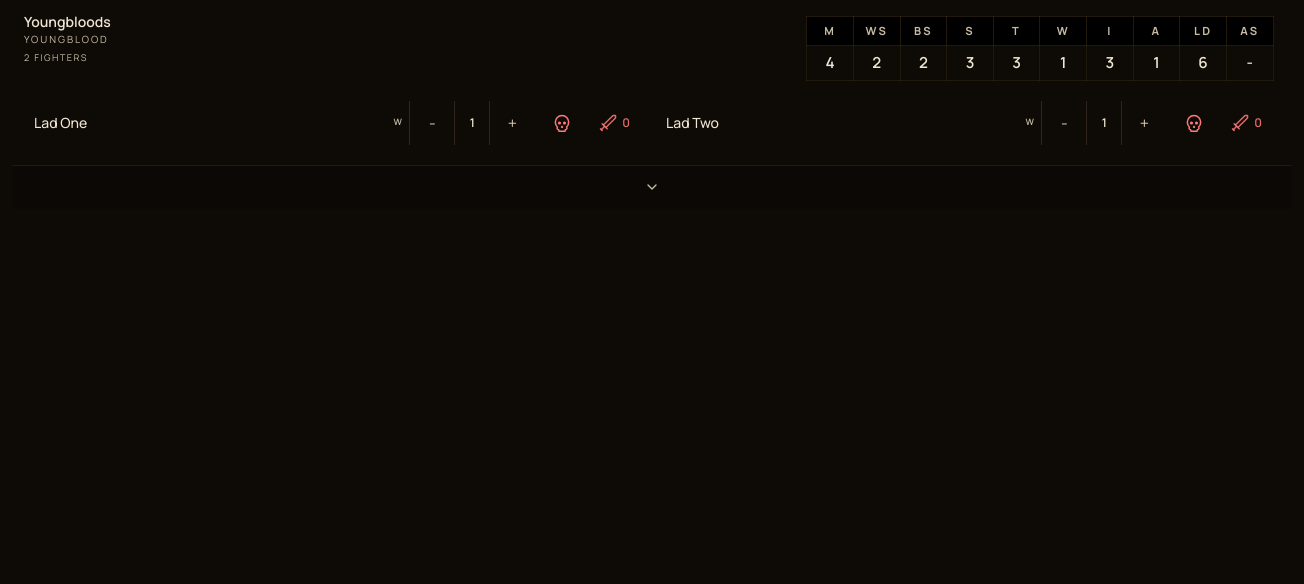
ActiveHenchmenGroupCard › shows loadout details without a member selector when expanded
Click the button named "Details for Youngbloods" at (652, 187), box left=12, top=165, right=1292, bottom=209
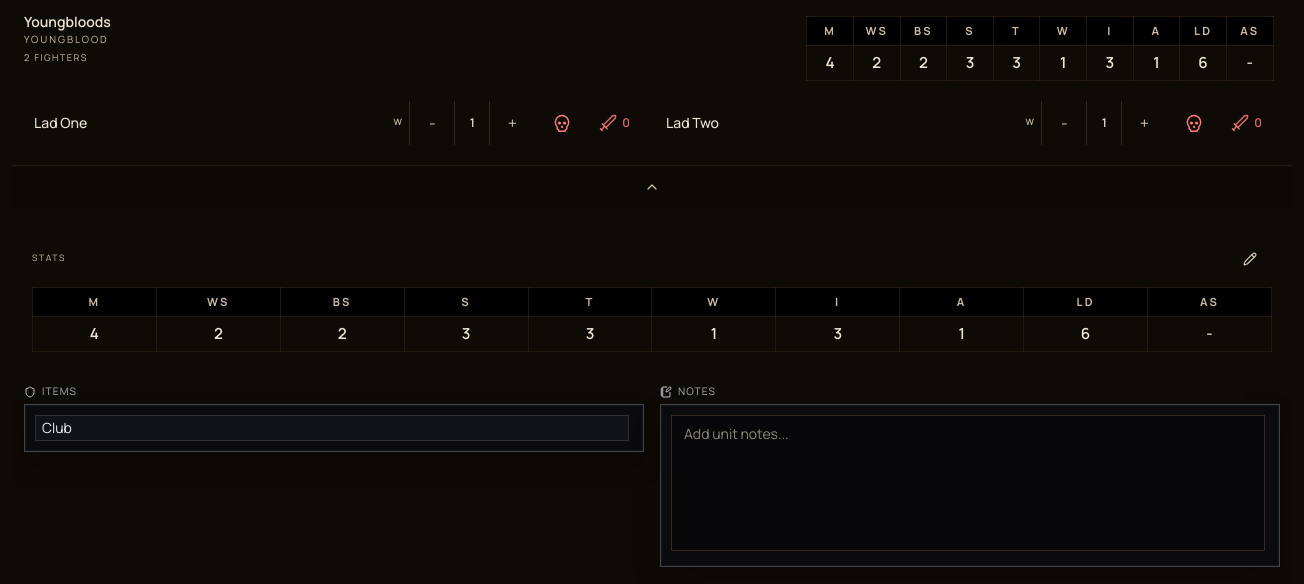
Expected: the button "Club" is shown, left=42, top=418, right=622, bottom=438
